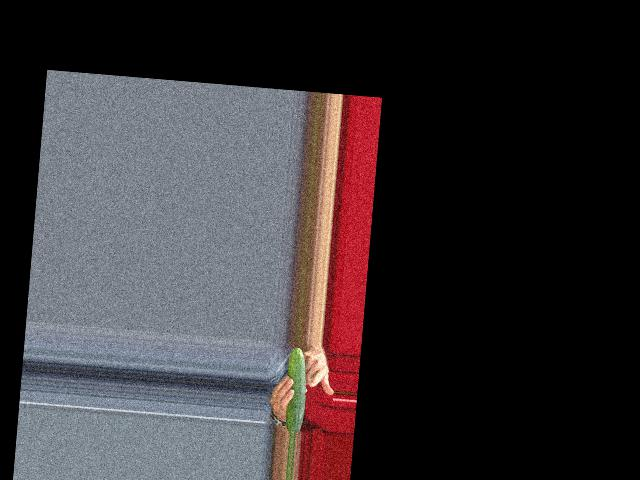cucumber: (282, 347, 309, 434)
